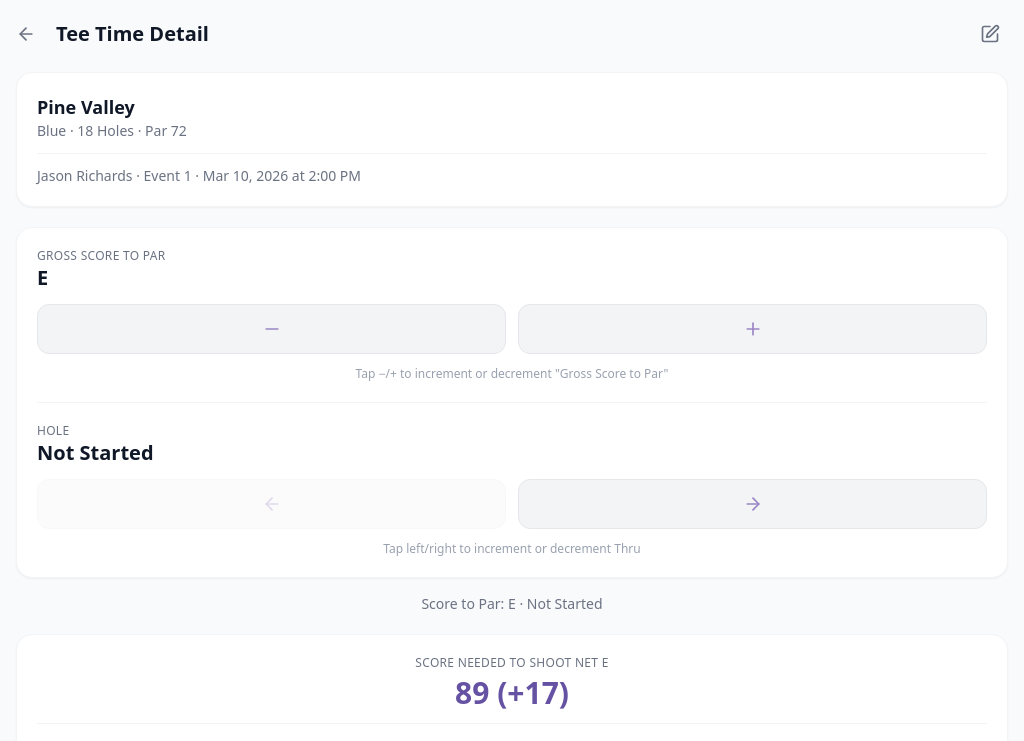
Test: Score Detail Page - Course/Tee Change › opens course picker when Change is clicked
Expected: the text "Pine Valley" is shown, [37,95,135,119]
Click the 2nd button. click: (990, 34)
box: [972,16,1008,52]
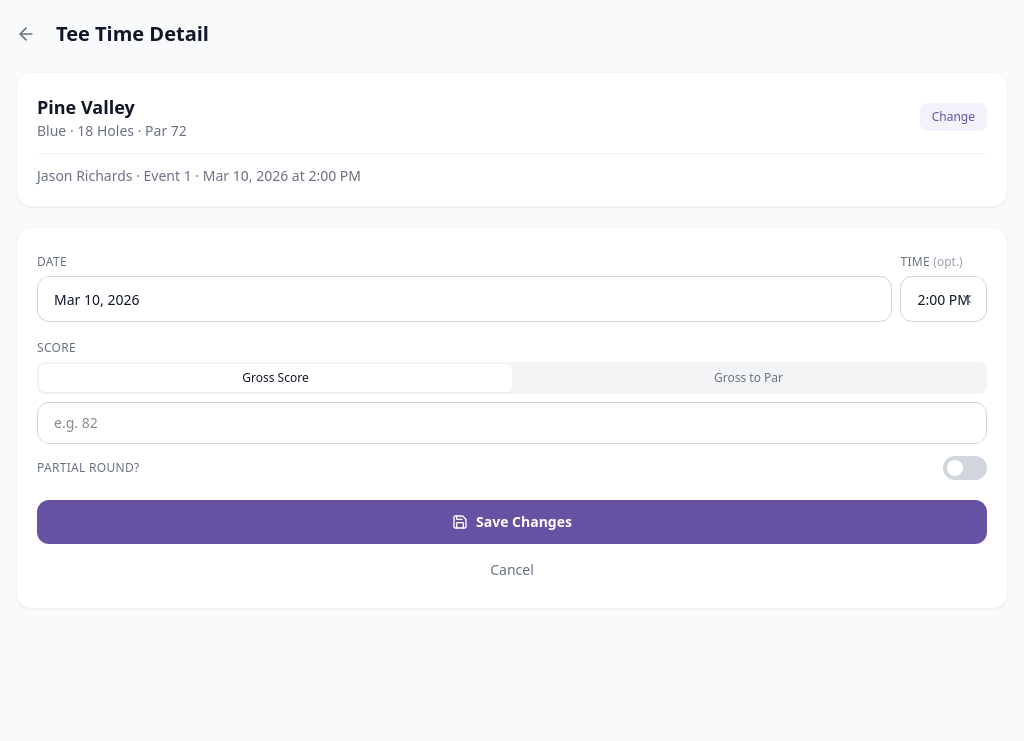
Click the button "Change". click: (953, 117)
box: [920,103,987,131]
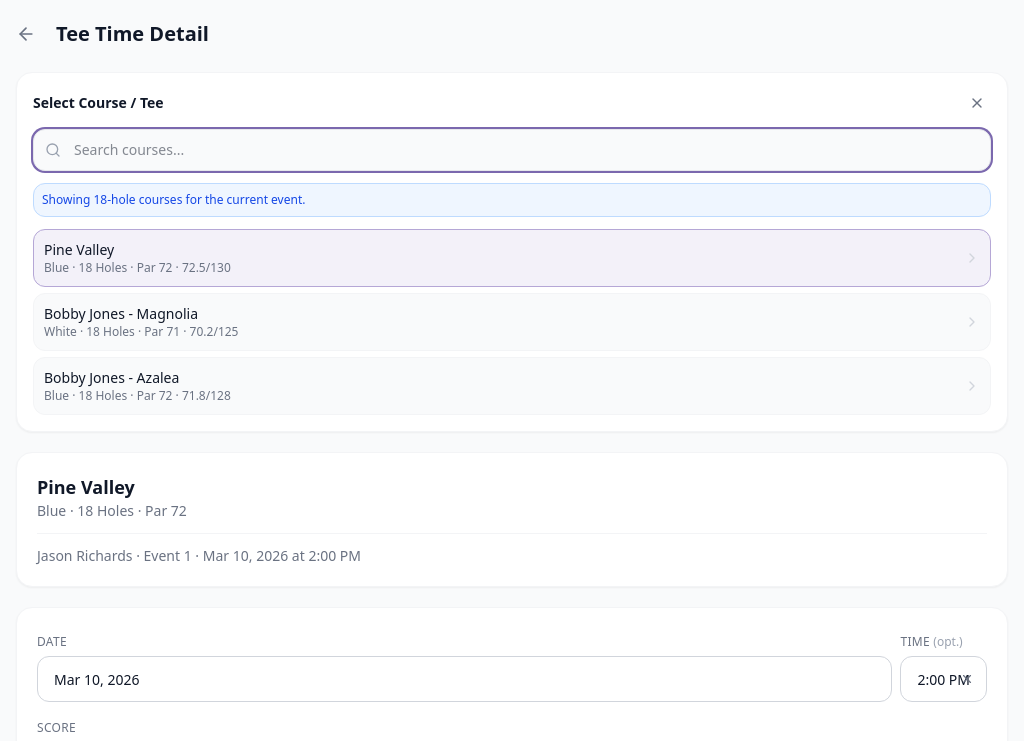
Now the heading "Select Course / Tee" is shown, box [33,93,164,113]
Now the field with placeholder "Search courses..." is shown, box [33,129,991,171]
